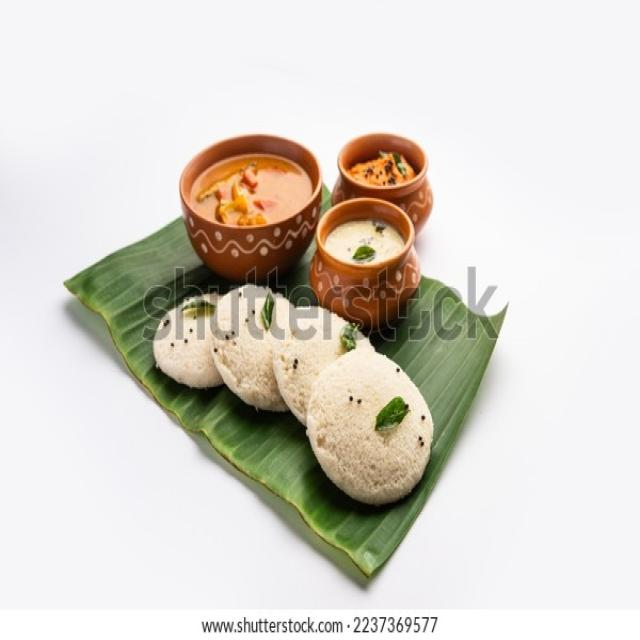IDLI: (310, 348, 433, 508), (274, 308, 375, 423), (207, 290, 288, 410), (148, 297, 226, 394)
